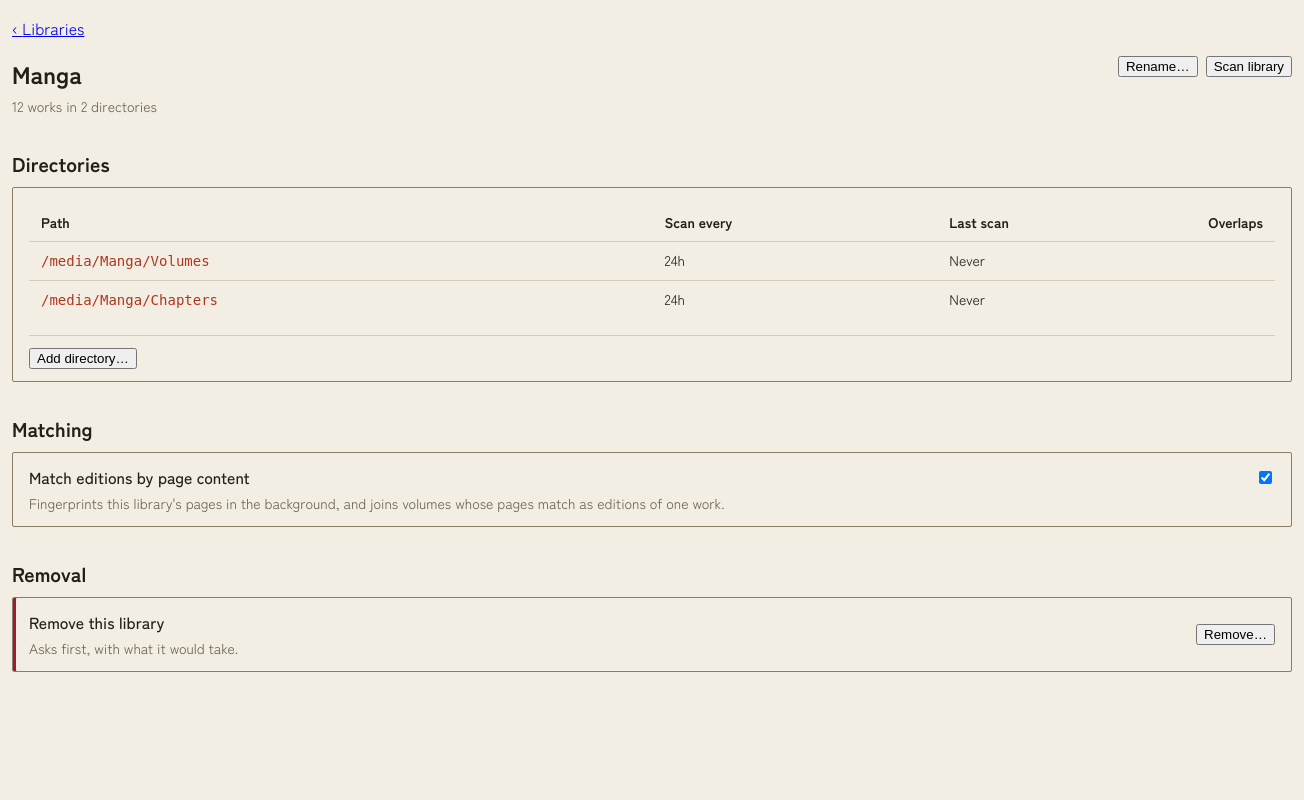
Test: LibraryPage › lays a box holding the name over the title, which stays inert beneath it, selected, with focus in it, and shows Save and Cancel where Rename… and Scan library w
Click the button "Rename…": click(1158, 66) x1=1118 y1=56 x2=1198 y2=77
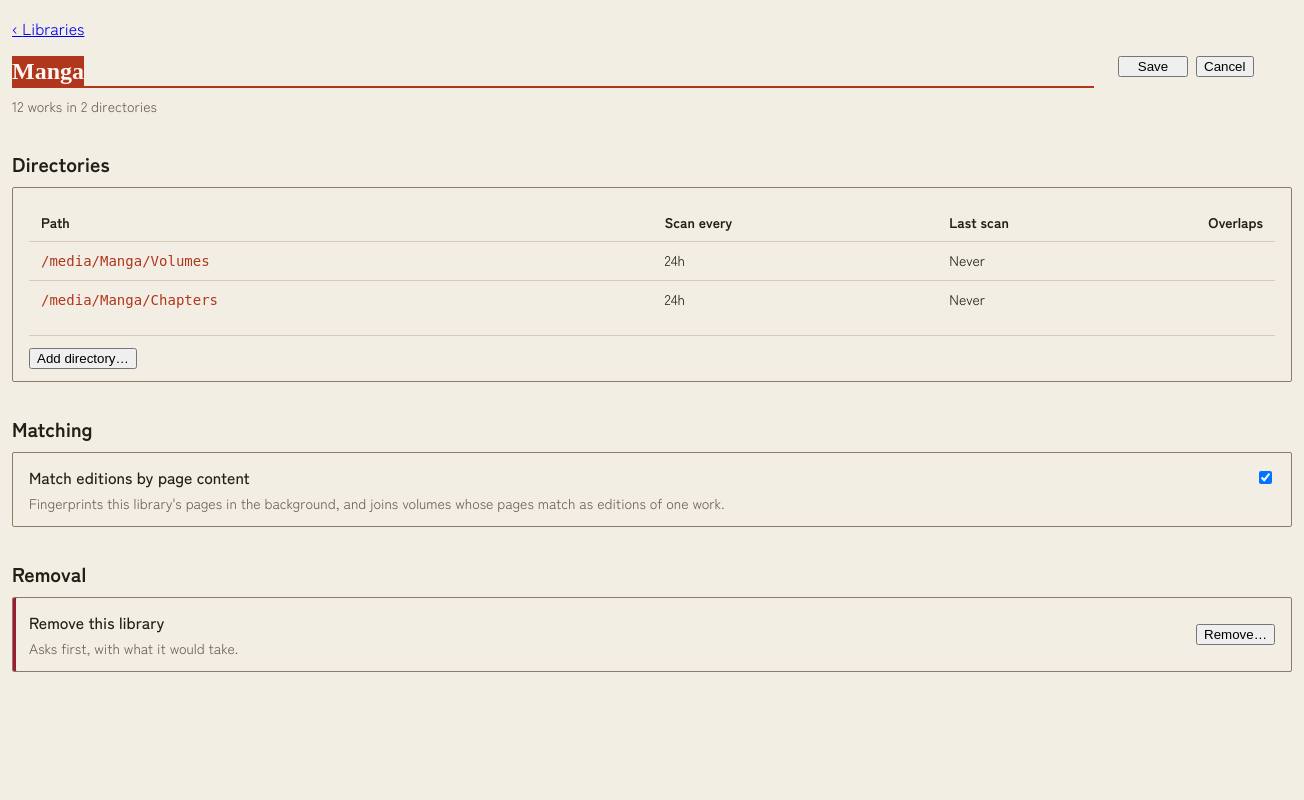
Expected: the text with class "holds" reads "12 works in 2 directories", x1=12 y1=96 x2=157 y2=116
Now the field named "library-name" holds "Manga", box x1=12 y1=56 x2=1094 y2=88
